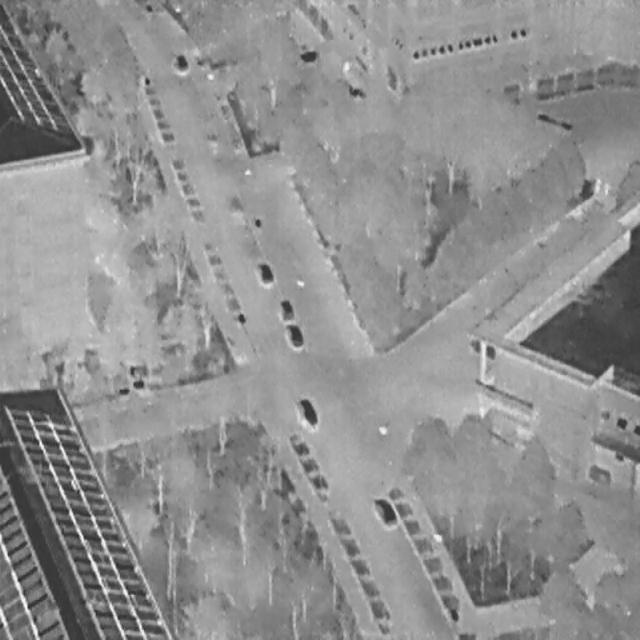Car: (372, 490, 397, 529), (297, 392, 318, 428), (285, 319, 304, 350), (255, 258, 274, 284), (279, 298, 294, 320), (175, 51, 188, 71)
